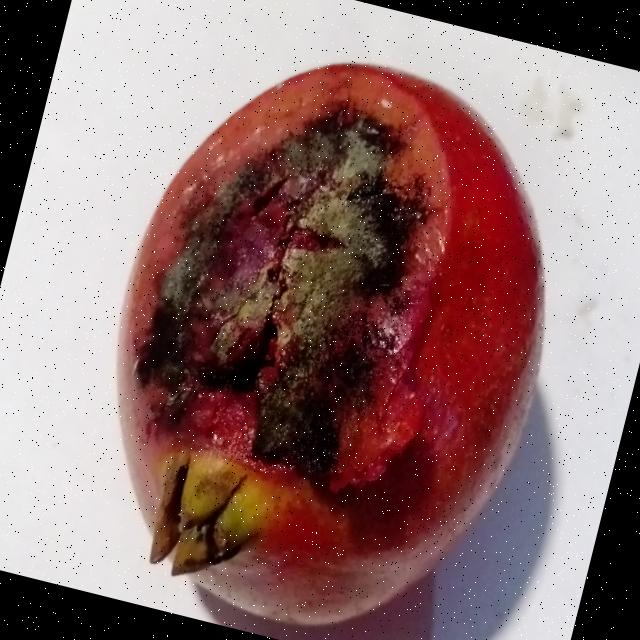Rotten: (55, 13, 602, 640)
